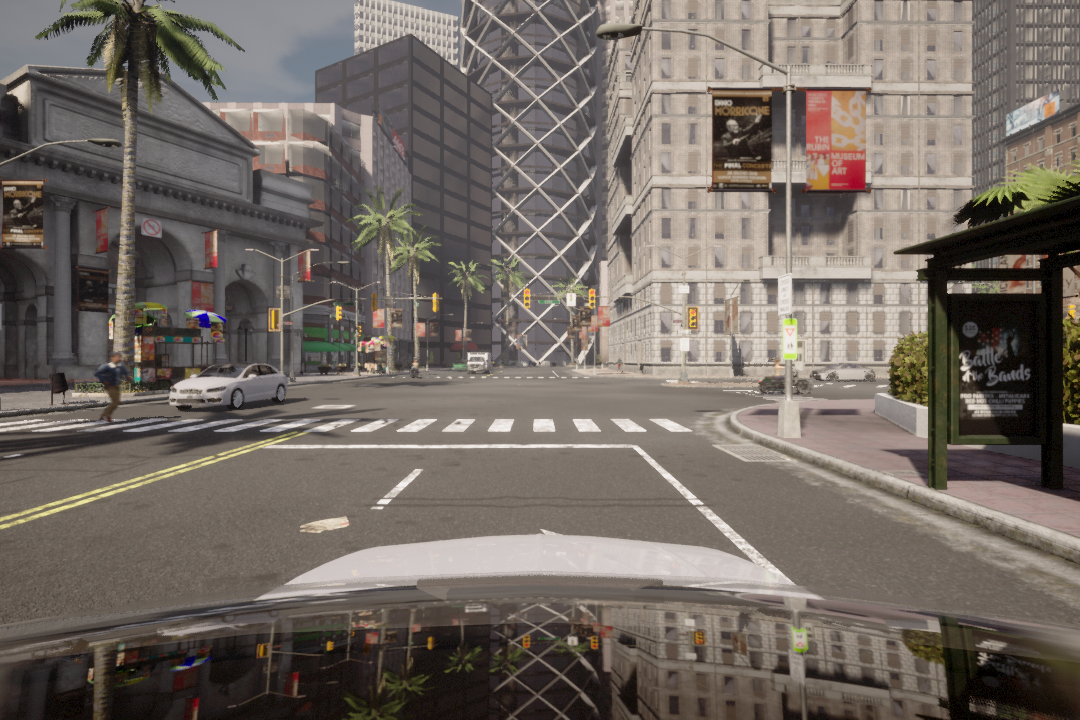TrafficLight: (688, 307, 701, 328), (523, 288, 533, 312), (588, 287, 597, 310)
TrafficSign: (142, 217, 163, 240)
walkside: (3, 408, 697, 446)
